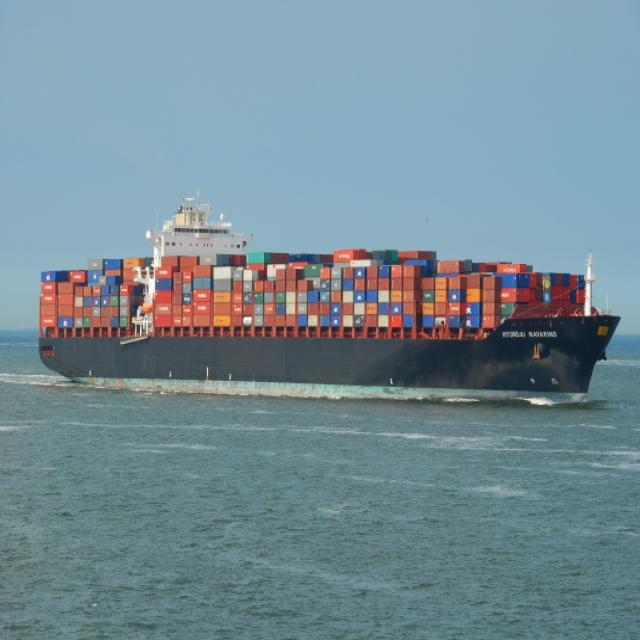Cargo: (39, 198, 619, 393)
